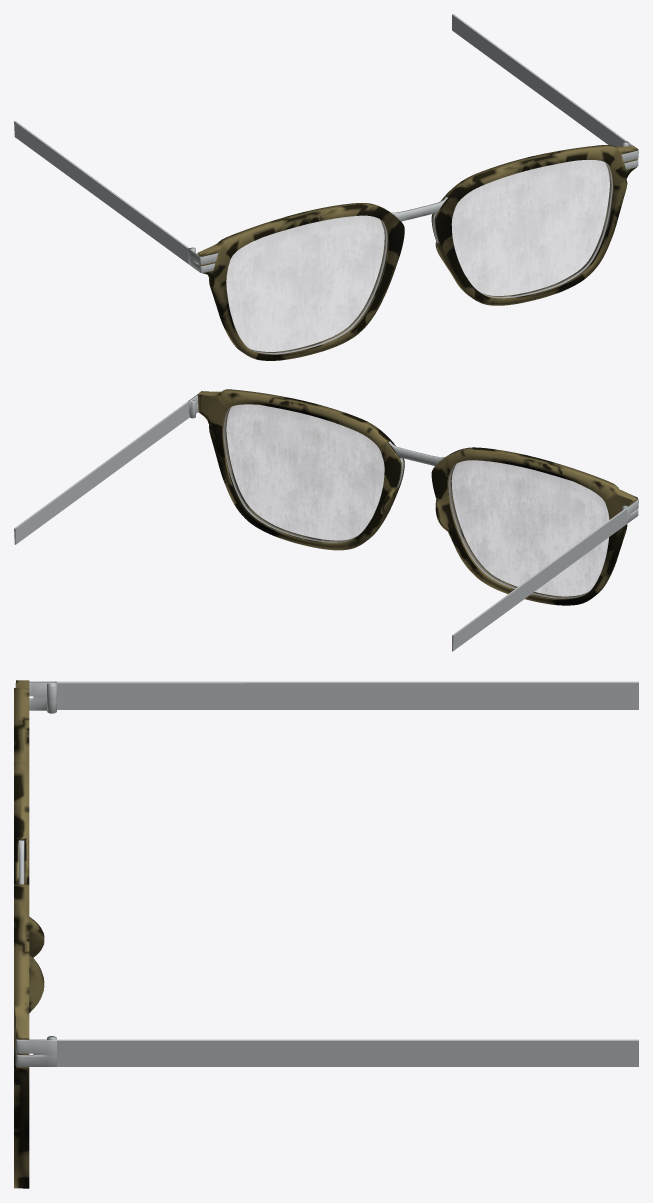
File: glass1.glb
The picture shows the model from 3 angles, top to bottom: view 1: azimuth 30°, elevation 25°; view 2: azimuth 150°, elevation 25°; view 3: azimuth 270°, elevation 25°; orthographic projection. The views are drawn at different scales.
Visible parts, largest first — view 1: GLASS_LP, D_LP, B_LP, C_LP; view 2: GLASS_LP, D_LP, B_LP, C_LP; view 3: B_LP, D_LP, C_LP.
Part boxes in pixels (left/top/right/bottom): GLASS_LP: left=226, top=160, right=612, bottom=354; D_LP: left=197, top=144, right=637, bottom=360; B_LP: left=14, top=14, right=626, bottom=263; C_LP: left=188, top=141, right=638, bottom=272; GLASS_LP: left=223, top=404, right=608, bottom=598; D_LP: left=197, top=389, right=637, bottom=605; B_LP: left=14, top=401, right=627, bottom=651; C_LP: left=188, top=394, right=638, bottom=523; B_LP: left=57, top=681, right=638, bottom=1066; D_LP: left=14, top=680, right=44, bottom=1188; C_LP: left=15, top=681, right=56, bottom=1066.
Size of the model in its own units: 1.81 by 0.5506 by 1.33.
1 material, 1 textured.
